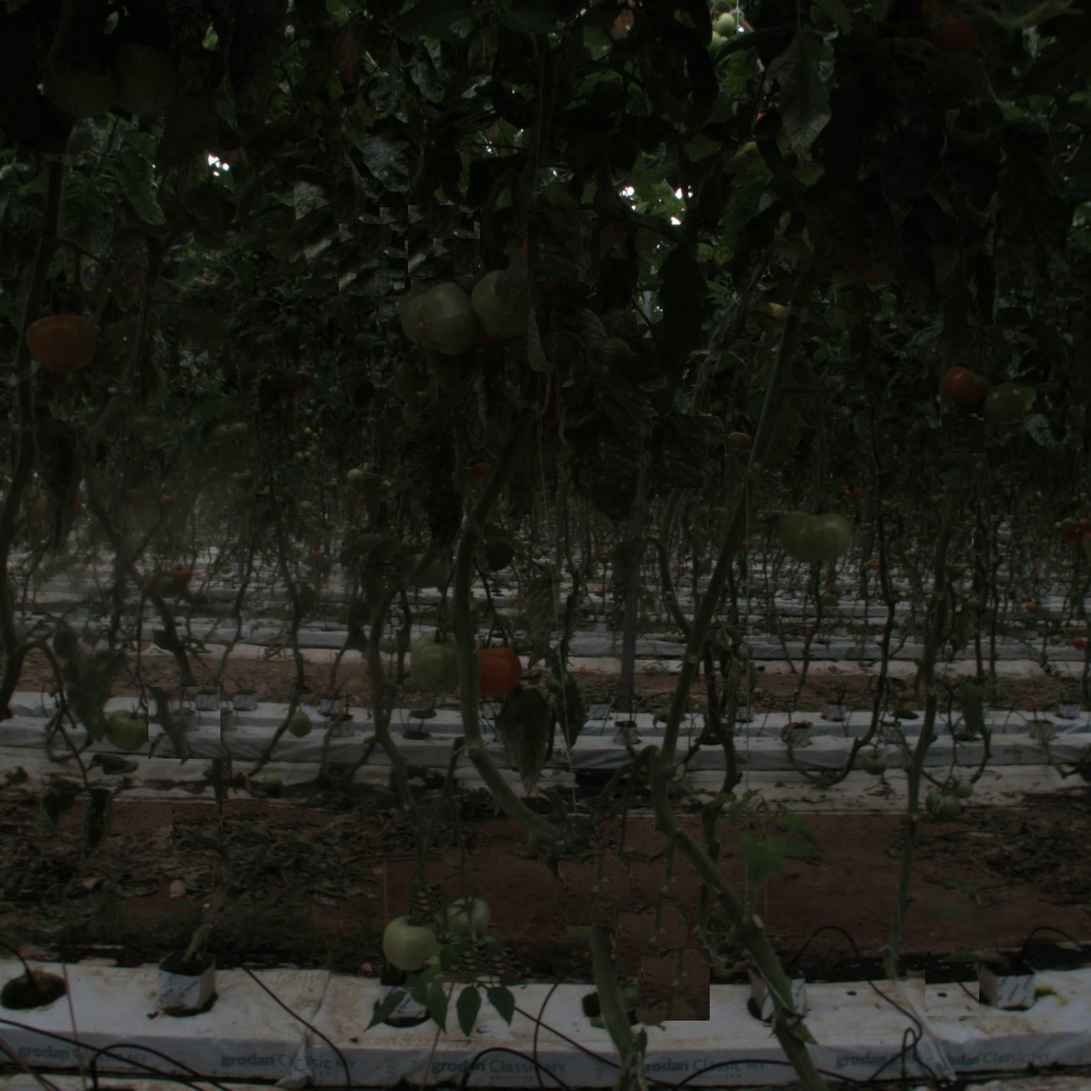fully-ripe: (942, 363, 990, 411), (470, 648, 518, 696)
semi-ripe: (31, 310, 96, 376)
unripe: (101, 39, 176, 113), (39, 41, 113, 116), (470, 268, 536, 334), (780, 497, 846, 563), (405, 281, 471, 346), (383, 914, 440, 970), (410, 636, 466, 692), (446, 896, 492, 942), (104, 708, 149, 753), (984, 385, 1028, 429)
